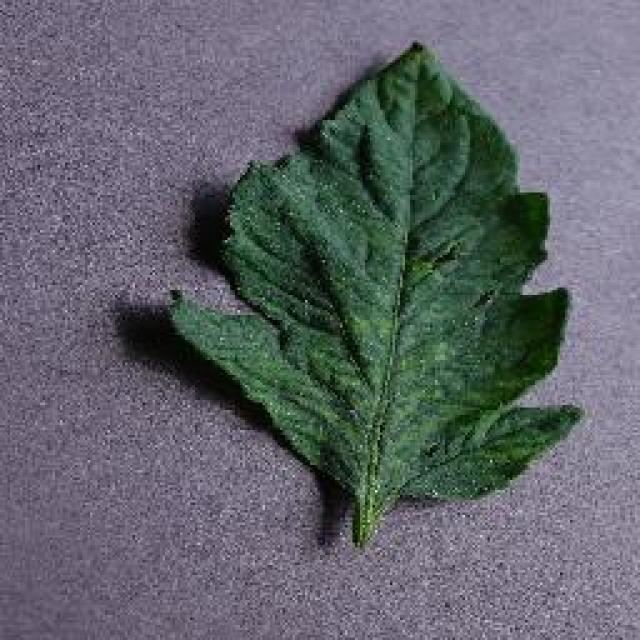Tomato___Tomato_mosaic_virus: (170, 42, 580, 545)
